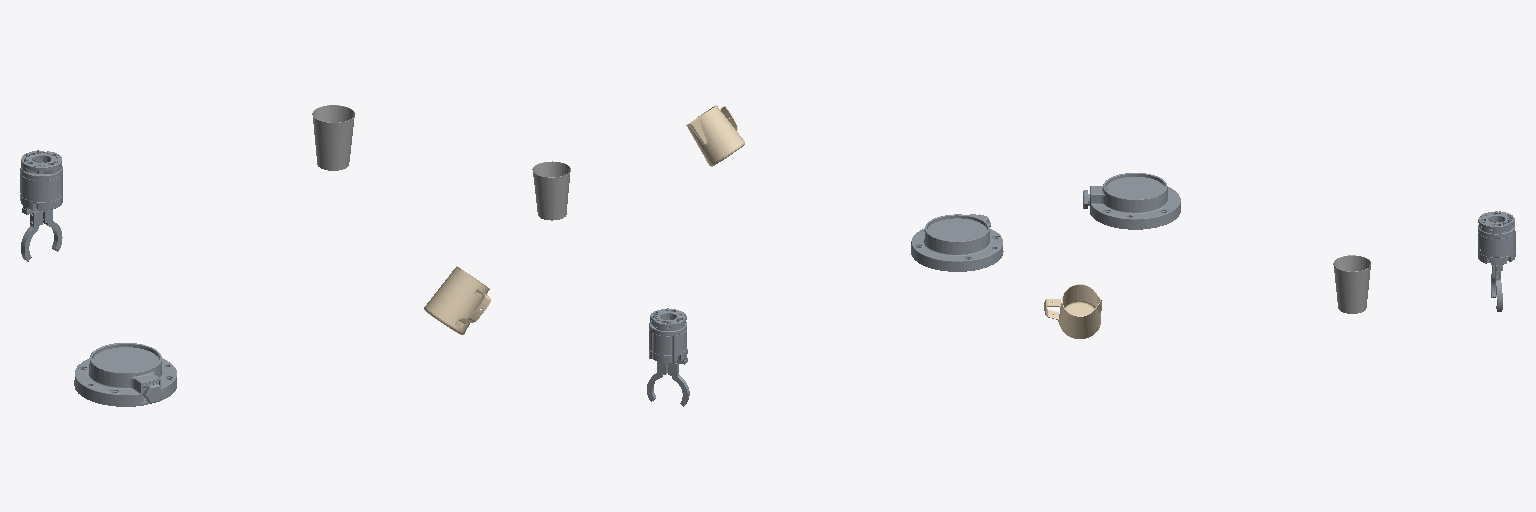
URDF robot description (world_map):
<?xml version="1.0" encoding="utf-8"?>
<!-- This URDF was automatically created by SolidWorks to URDF Exporter! Originally created by Stephen Brawner (brawner@gmail.com) 
     Commit Version: 1.6.0-4-g7f85cfe  Build Version: 1.6.7995.38578
     For more information, please see http://wiki.ros.org/sw_urdf_exporter -->
<robot
  name="world_map">
  <link
    name="pedestal_Link">
    <inertial>
      <origin
        xyz="0.19298 -0.023952 0.019437"
        rpy="0 0 0" />
      <mass
        value="279.84" />
      <inertia
        ixx="11.635"
        ixy="0.0019218"
        ixz="-0.10753"
        iyy="42.069"
        iyz="0.024529"
        izz="32.91" />
    </inertial>
    <visual>
      <origin
        xyz="0 0 0"
        rpy="0 0 0" />
      <geometry>
        <mesh
          filename="package://aubo_description/meshes/world_map/pedestal_Link.STL" />
      </geometry>
      <material
        name="">
        <color
          rgba="0.91373 0.84706 0.74118 1" />
      </material>
    </visual>
    <collision>
      <origin
        xyz="0 0 0"
        rpy="0 0 0" />
      <geometry>
        <mesh
          filename="package://aubo_description/meshes/world_map/pedestal_Link.STL" />
      </geometry>
    </collision>
  </link>
  <link
    name="base1_Link">
    <inertial>
      <origin
        xyz="3.4413E-09 -0.0027307 0.0029024"
        rpy="0 0 0" />
      <mass
        value="5.9908" />
      <inertia
        ixx="0.0109"
        ixy="-1.9752E-08"
        ixz="3.3745E-10"
        iyy="0.0095852"
        iyz="-0.00015865"
        izz="0.018662" />
    </inertial>
    <visual>
      <origin
        xyz="0 0 0"
        rpy="0 0 0" />
      <geometry>
        <mesh
          filename="package://aubo_description/meshes/world_map/base1_Link.STL" />
      </geometry>
      <material
        name="">
        <color
          rgba="0.61569 0.64314 0.67451 1" />
      </material>
    </visual>
    <collision>
      <origin
        xyz="0 0 0"
        rpy="0 0 0" />
      <geometry>
        <mesh
          filename="package://aubo_description/meshes/world_map/base1_Link.STL" />
      </geometry>
    </collision>
  </link>
  <joint
    name="base1_joint"
    type="fixed">
    <origin
      xyz="-0.20983 -0.10483 0.028"
      rpy="-3.1416 0 3.1416" />
    <parent
      link="pedestal_Link" />
    <child
      link="base1_Link" />
    <axis
      xyz="0 0 0" />
  </joint>
  <link
    name="gripper_Link">
    <inertial>
      <origin
        xyz="0.032695 2.4035E-06 -1.2647E-05"
        rpy="0 0 0" />
      <mass
        value="0.49412" />
      <inertia
        ixx="0.00021829"
        ixy="1.2071E-07"
        ixz="-1.196E-07"
        iyy="0.00019977"
        iyz="-1.2196E-06"
        izz="0.00018654" />
    </inertial>
    <visual>
      <origin
        xyz="0 0 0"
        rpy="0 0 0" />
      <geometry>
        <mesh
          filename="package://aubo_description/meshes/world_map/gripper_Link.STL" />
      </geometry>
      <material
        name="">
        <color
          rgba="0.61569 0.64314 0.67451 1" />
      </material>
    </visual>
    <collision>
      <origin
        xyz="0 0 0"
        rpy="0 0 0" />
      <geometry>
        <mesh
          filename="package://aubo_description/meshes/world_map/gripper_Link.STL" />
      </geometry>
    </collision>
  </link>
  <joint
    name="gripper_joint"
    type="continuous">
    <origin
      xyz="0.0175 0.5675 0"
      rpy="0.16128 -1.5708 0" />
    <parent
      link="pedestal_Link" />
    <child
      link="gripper_Link" />
    <axis
      xyz="1 0 0" />
  </joint>
  <link
    name="gripper1_Link">
    <inertial>
      <origin
        xyz="-9.5481E-06 0.013288 -1.7239E-05"
        rpy="0 0 0" />
      <mass
        value="0.37475" />
      <inertia
        ixx="0.00012891"
        ixy="1.8935E-07"
        ixz="-6.5087E-07"
        iyy="0.00012272"
        iyz="2E-07"
        izz="0.00015148" />
    </inertial>
    <visual>
      <origin
        xyz="0 0 0"
        rpy="0 0 0" />
      <geometry>
        <mesh
          filename="package://aubo_description/meshes/world_map/gripper1_Link.STL" />
      </geometry>
      <material
        name="">
        <color
          rgba="0.69804 0.69804 0.69804 1" />
      </material>
    </visual>
    <collision>
      <origin
        xyz="0 0 0"
        rpy="0 0 0" />
      <geometry>
        <mesh
          filename="package://aubo_description/meshes/world_map/gripper1_Link.STL" />
      </geometry>
    </collision>
  </link>
  <joint
    name="gripper1_joint"
    type="continuous">
    <origin
      xyz="-0.1225 0.5675 0"
      rpy="-1.5708 0 0.16039" />
    <parent
      link="pedestal_Link" />
    <child
      link="gripper1_Link" />
    <axis
      xyz="0 1 0" />
  </joint>
  <link
    name="cup_Link">
    <inertial>
      <origin
        xyz="-2.2204E-16 0.043358 -1.3878E-16"
        rpy="0 0 0" />
      <mass
        value="0.0049881" />
      <inertia
        ixx="6.3167E-06"
        ixy="2.0801E-21"
        ixz="-2.3293E-21"
        iyy="4.4216E-06"
        iyz="4.6127E-21"
        izz="6.3167E-06" />
    </inertial>
    <visual>
      <origin
        xyz="0 0 0"
        rpy="0 0 0" />
      <geometry>
        <mesh
          filename="package://aubo_description/meshes/world_map/cup_Link.STL" />
      </geometry>
      <material
        name="">
        <color
          rgba="0.69804 0.69804 0.69804 1" />
      </material>
    </visual>
    <collision>
      <origin
        xyz="0 0 0"
        rpy="0 0 0" />
      <geometry>
        <mesh
          filename="package://aubo_description/meshes/world_map/cup_Link.STL" />
      </geometry>
    </collision>
  </link>
  <joint
    name="cup_joint"
    type="fixed">
    <origin
      xyz="0.41942 0.299 0.099768"
      rpy="1.5773 0.0084445 0.65748" />
    <parent
      link="pedestal_Link" />
    <child
      link="cup_Link" />
    <axis
      xyz="0 0 0" />
  </joint>
  <link
    name="cup350_Link">
    <inertial>
      <origin
        xyz="0.034523 -0.046212 0.0068806"
        rpy="0 0 0" />
      <mass
        value="0.51778" />
      <inertia
        ixx="0.00041022"
        ixy="-5.615E-06"
        ixz="-3.101E-09"
        iyy="0.00026606"
        iyz="-2.5755E-09"
        izz="0.00043124" />
    </inertial>
    <visual>
      <origin
        xyz="0 0 0"
        rpy="0 0 0" />
      <geometry>
        <mesh
          filename="package://aubo_description/meshes/world_map/cup350_Link.STL" />
      </geometry>
      <material
        name="">
        <color
          rgba="0.91373 0.84706 0.74118 1" />
      </material>
    </visual>
    <collision>
      <origin
        xyz="0 0 0"
        rpy="0 0 0" />
      <geometry>
        <mesh
          filename="package://aubo_description/meshes/world_map/cup350_Link.STL" />
      </geometry>
    </collision>
  </link>
  <joint
    name="cup350_joint"
    type="prismatic">
    <origin
      xyz="0.33112 -0.2075 0.038526"
      rpy="-2.2689 0 -1.5708" />
    <parent
      link="pedestal_Link" />
    <child
      link="cup350_Link" />
    <axis
      xyz="0 0 1" />
    <limit
      lower="0"
      upper="0"
      effort="0"
      velocity="0" />
  </joint>
</robot>

--- What the picture shows (computed from the rendered views, not written in the file) ---
3 views of the same robot in one strip: view 1: azimuth 30°, elevation 25°; view 2: azimuth 150°, elevation 25°; view 3: azimuth 270°, elevation 25° (orthographic).
Robot: world_map — 6 links, 5 joints (2 continuous, 1 prismatic, 2 fixed); root link pedestal_Link; default pose: every joint at zero.
Links seen in each view (by area): view 1: base1_Link, gripper_Link, cup350_Link, cup_Link; view 2: base1_Link, gripper_Link, cup350_Link, cup_Link; view 3: base1_Link, gripper_Link, cup350_Link, cup_Link.
Boxes of the visible links, box(x1,y1,x2,y2) form: base1_Link: box(74, 343, 176, 406); gripper_Link: box(20, 150, 62, 261); cup350_Link: box(424, 266, 491, 334); cup_Link: box(312, 105, 354, 170); base1_Link: box(911, 214, 1003, 271); gripper_Link: box(647, 308, 689, 406); cup350_Link: box(686, 105, 744, 166); cup_Link: box(532, 161, 570, 220); base1_Link: box(1083, 173, 1180, 229); gripper_Link: box(1478, 211, 1515, 311); cup350_Link: box(1044, 284, 1102, 338); cup_Link: box(1333, 255, 1370, 313).
Bounding box of the posed robot: 0.7508 × 0.8762 × 0.2738 m (x, y, z).
4 mesh visuals loaded from 6 distinct referenced files (4 binary STL); not drawn: 2 (reference not matched to a file when rendering).
